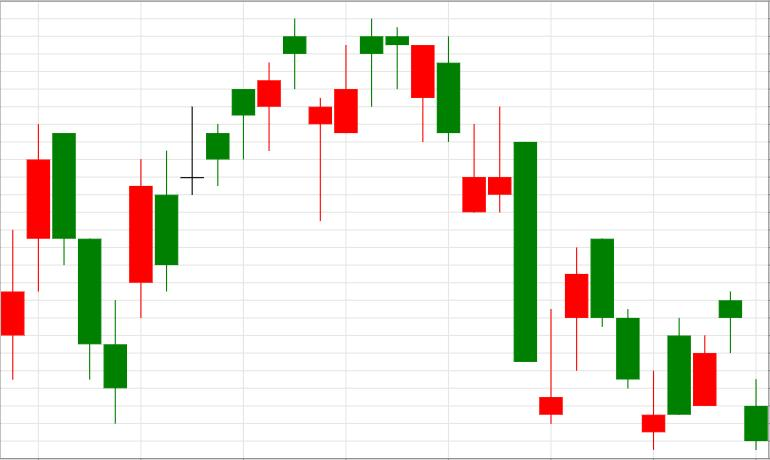morning_star_rise: (386, 27, 588, 424)
